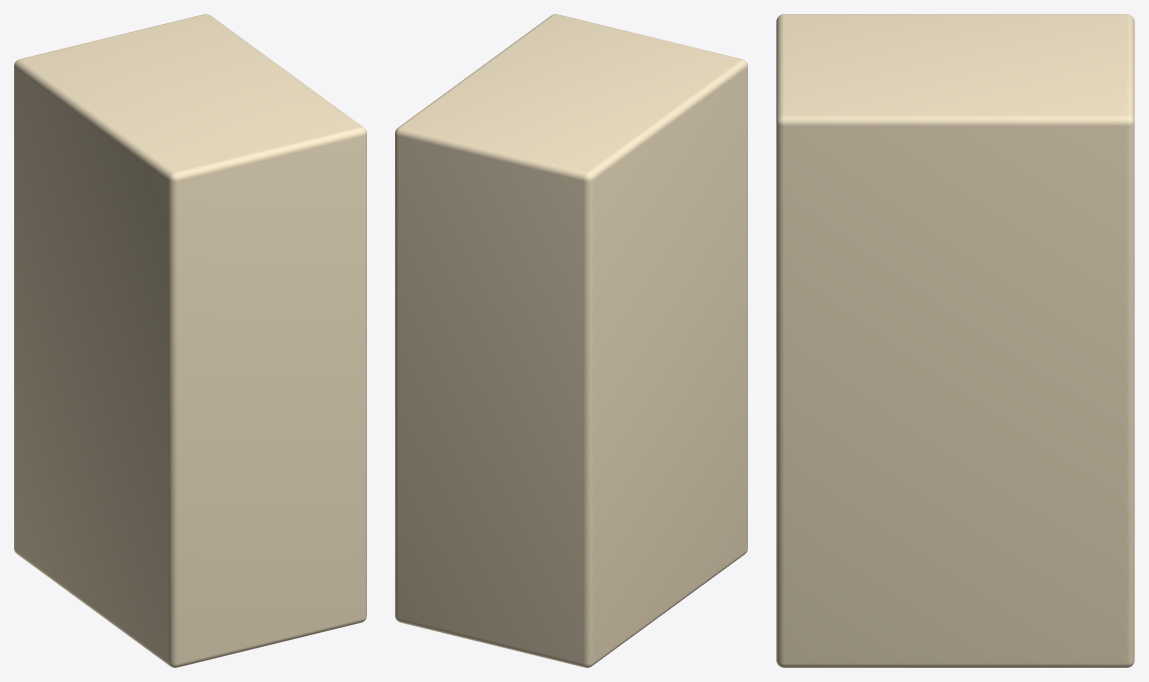
The picture shows the model from 3 angles, left to right: view 1: azimuth 30°, elevation 25°; view 2: azimuth 150°, elevation 25°; view 3: azimuth 270°, elevation 25°; orthographic projection. The views are drawn at different scales.
Visible parts, largest first — view 1: block; view 2: block; view 3: block.
Boxes of the visible parts, <box> form: block: <box>14,14,366,667</box>; block: <box>395,14,747,667</box>; block: <box>776,14,1134,667</box>.
Size of the model in its own units: 0.0125 by 0.03 by 0.0177.
